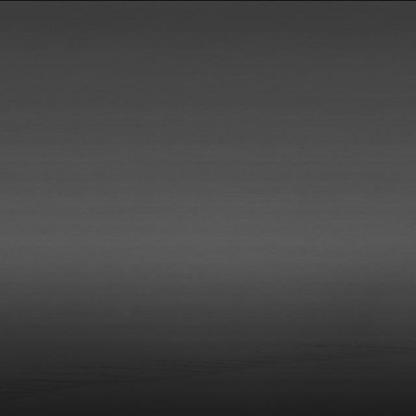water_spot: (25, 338, 403, 400)
